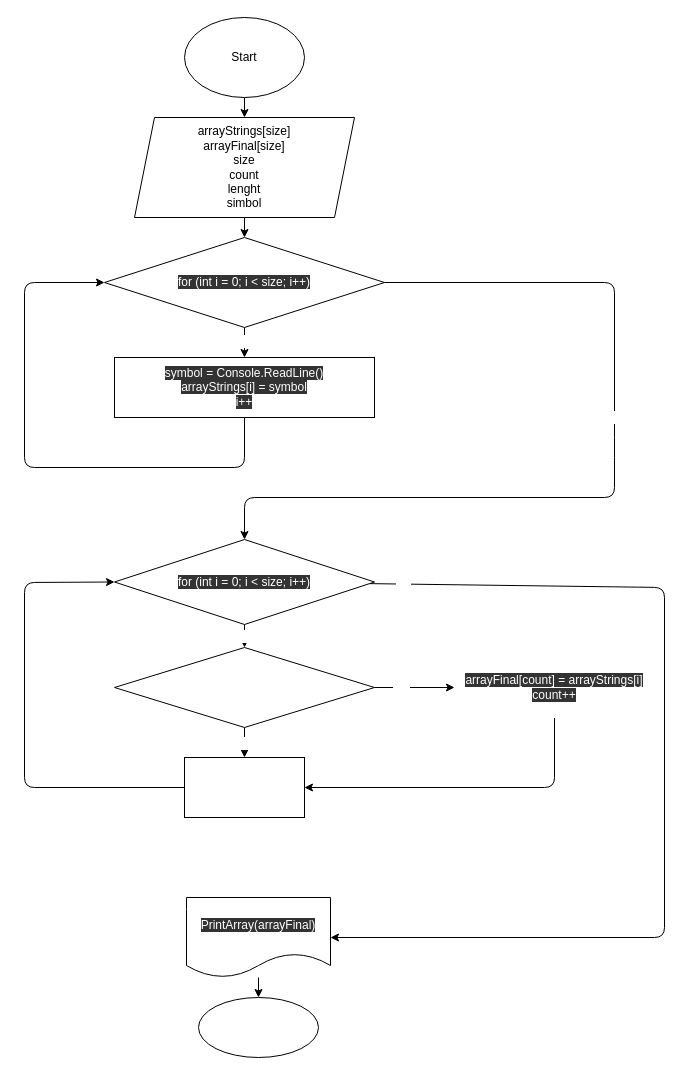
This 690x1075 diagram has some shape labels left out. Here are the shapes that lost their labels. From the top down, the box of each, then its label:
(114, 646, 374, 728): arrayStrings [ i ]. Length <= length
(184, 756, 304, 818): i++
(198, 996, 318, 1058): Finish
